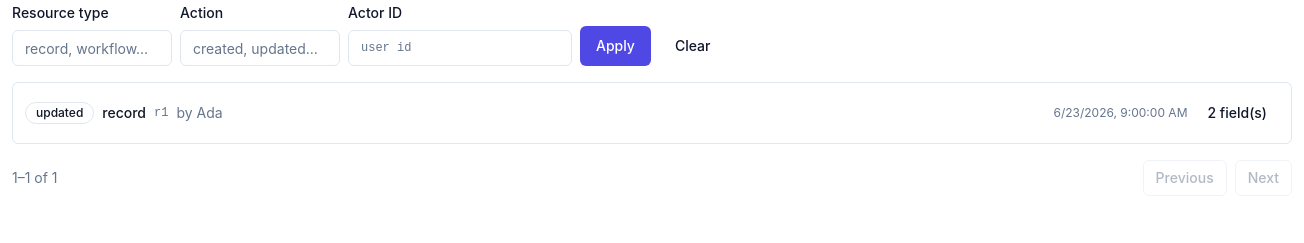
Test: AuditExplorer › renders entries and toggles changed fields
Expected: the text "by Ada" is shown, [176,103,223,123]
Click the button with aria-label "Toggle changed fields for a1" at coordinates (1237, 113), box [1196,95,1279,131]
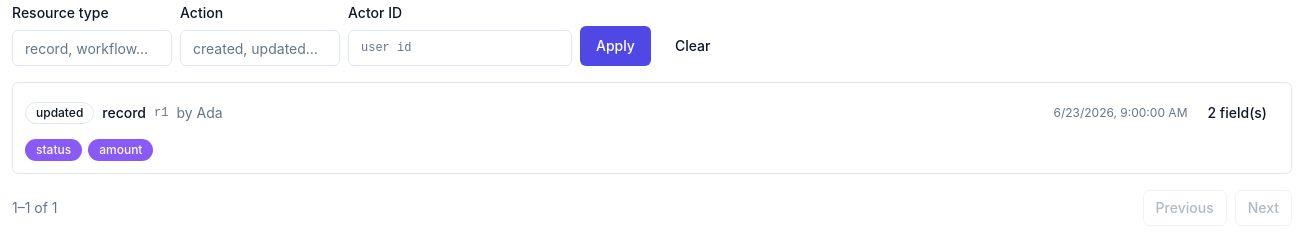
Result: the text "status" is shown at [25,139,82,161]
Result: the text "amount" is shown at [88,139,154,161]
